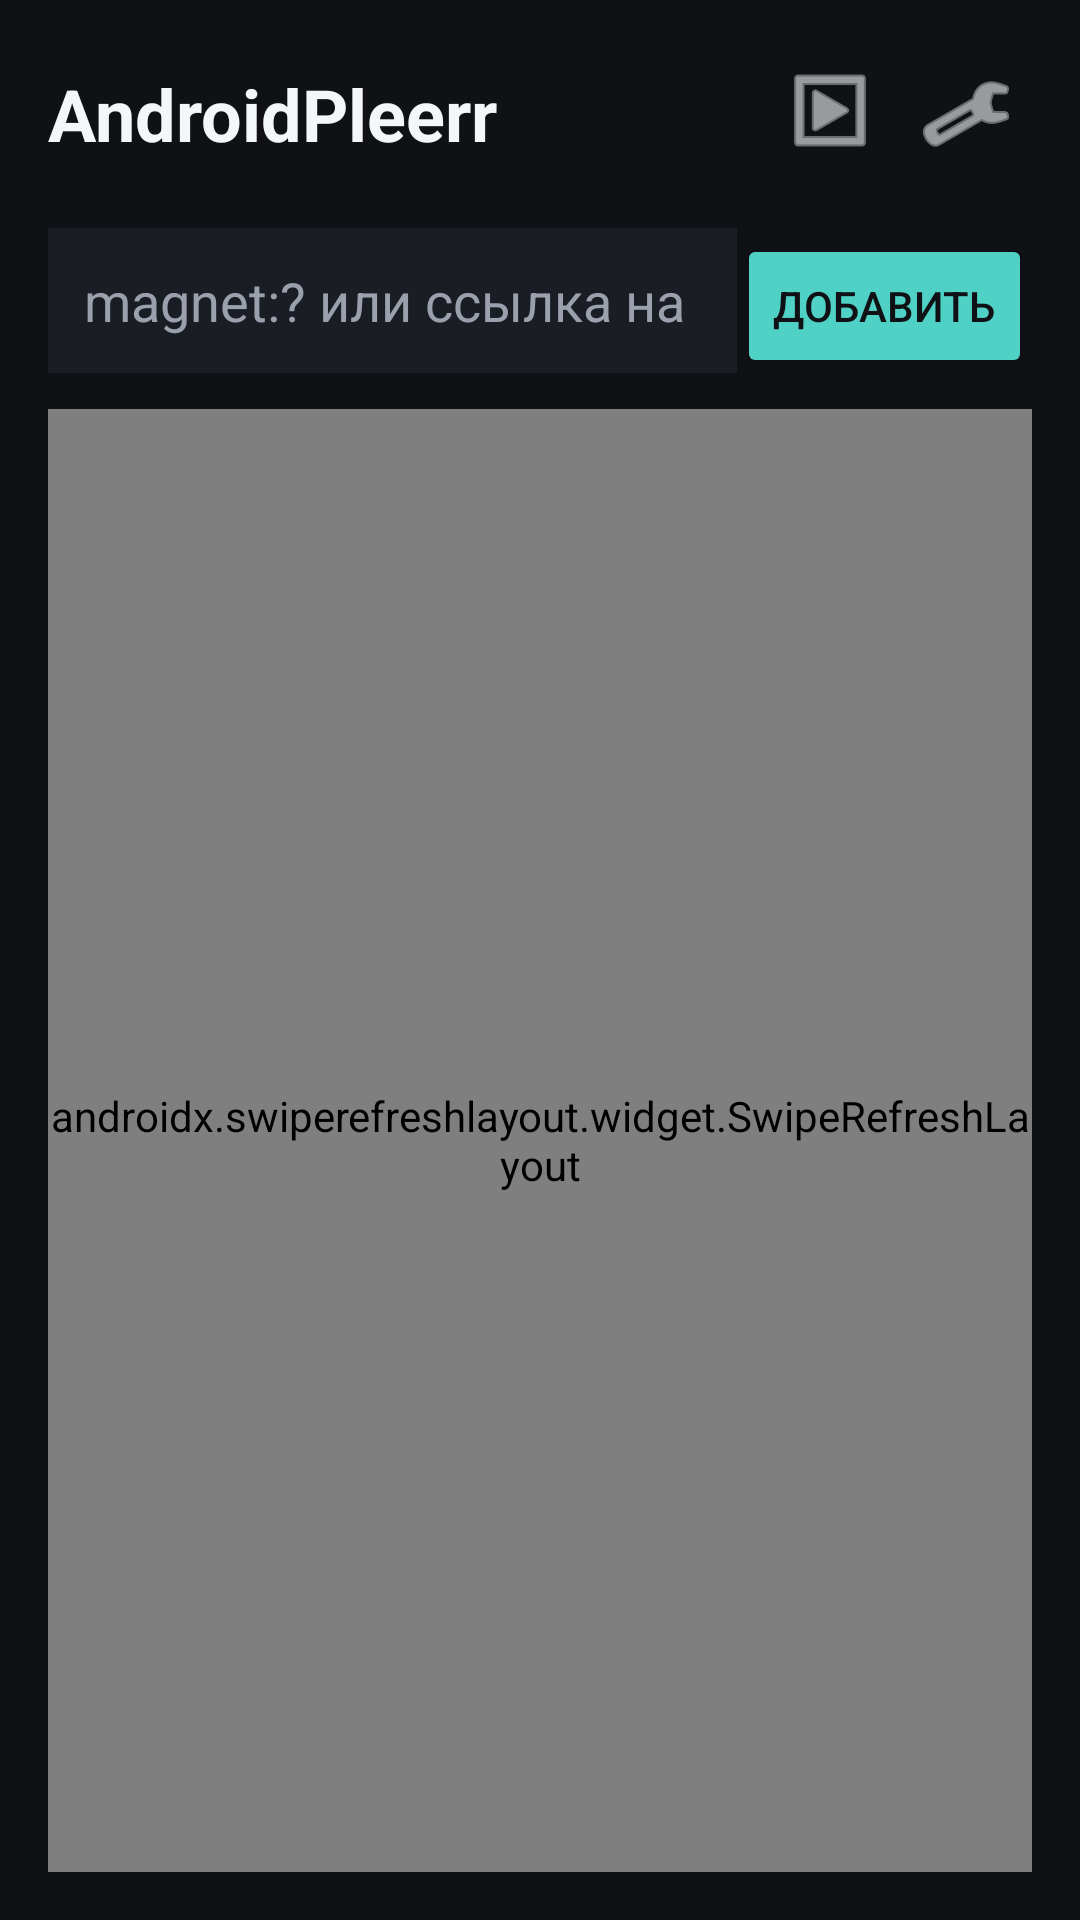

Icons on this 1080x1920 Android screen, each with its box as {"x1": x1, "y1": y1, "x2": x2, "y2": y2}:
IPTV: {"x1": 794, "y1": 74, "x2": 866, "y2": 147}
Settings: {"x1": 923, "y1": 81, "x2": 1009, "y2": 147}
